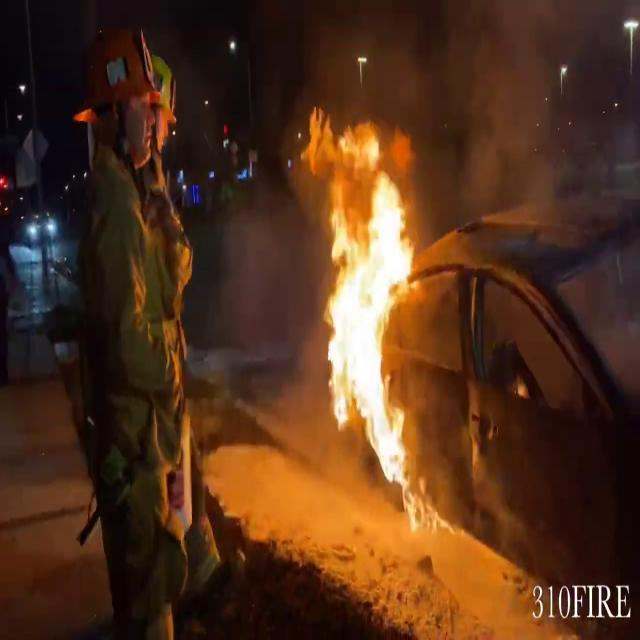Fire: (302, 102, 436, 500)
Smoke: (305, 0, 627, 240)
